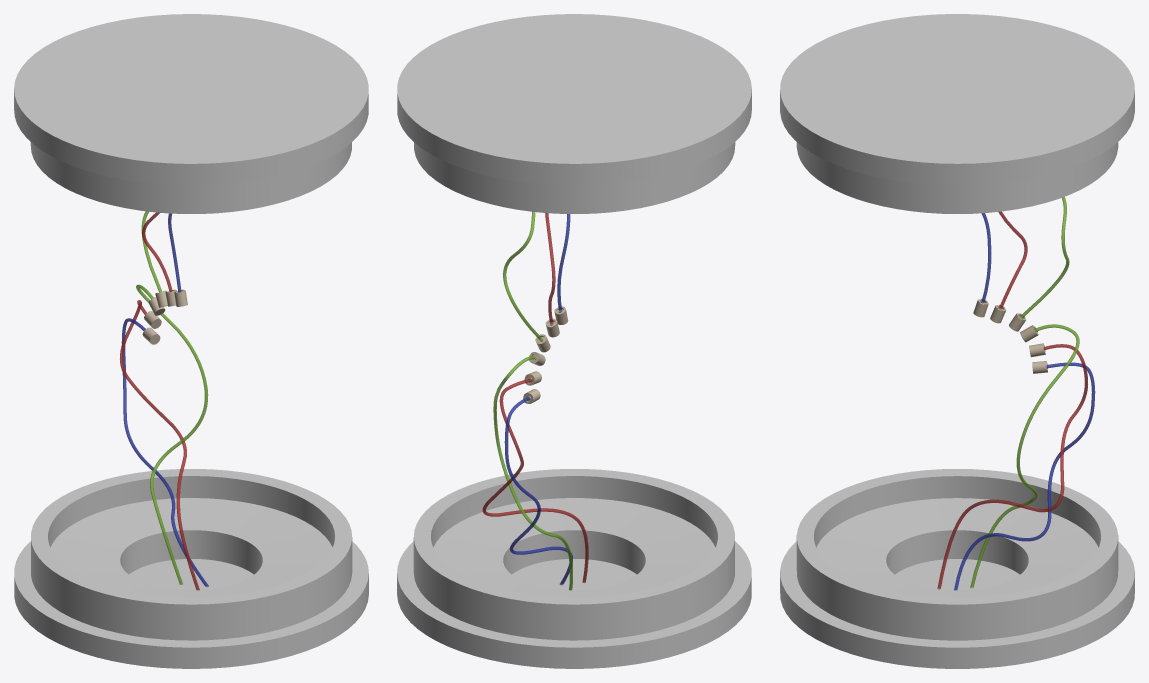
The model's file is TestTube.fbx.
3 renders of one model, left to right at view 1: azimuth 30°, elevation 25°; view 2: azimuth 150°, elevation 25°; view 3: azimuth 270°, elevation 25°, orthographic.
Visible parts, largest first — view 1: Metal2, Metal1, Cable_Green, Cable_Red, Cable_Blue; view 2: Metal2, Metal1, Cable_Red, Cable_Green, Cable_Blue, Cable_Green_2; view 3: Metal2, Metal1, Cable_Red, Cable_Green, Cable_Blue, Cable_Green_2.
Boxes of the visible parts, x1,y1,x2,y2 form: Metal2: (14,14,368,213); Metal1: (14,469,368,668); Cable_Green: (136,284,208,584); Cable_Red: (120,300,199,590); Cable_Blue: (121,318,208,586); Metal2: (397,14,751,213); Metal1: (397,469,751,668); Cable_Red: (482,378,588,582); Cable_Green: (493,356,572,590); Cable_Blue: (504,396,572,585); Cable_Green_2: (503,211,542,340); Metal2: (780,14,1134,213); Metal1: (780,469,1134,668); Cable_Red: (937,344,1087,589); Cable_Green: (970,324,1079,588); Cable_Blue: (954,362,1095,590); Cable_Green_2: (1020,197,1069,317).
Size of the model in its own units: 3013 by 4805 by 3012.
